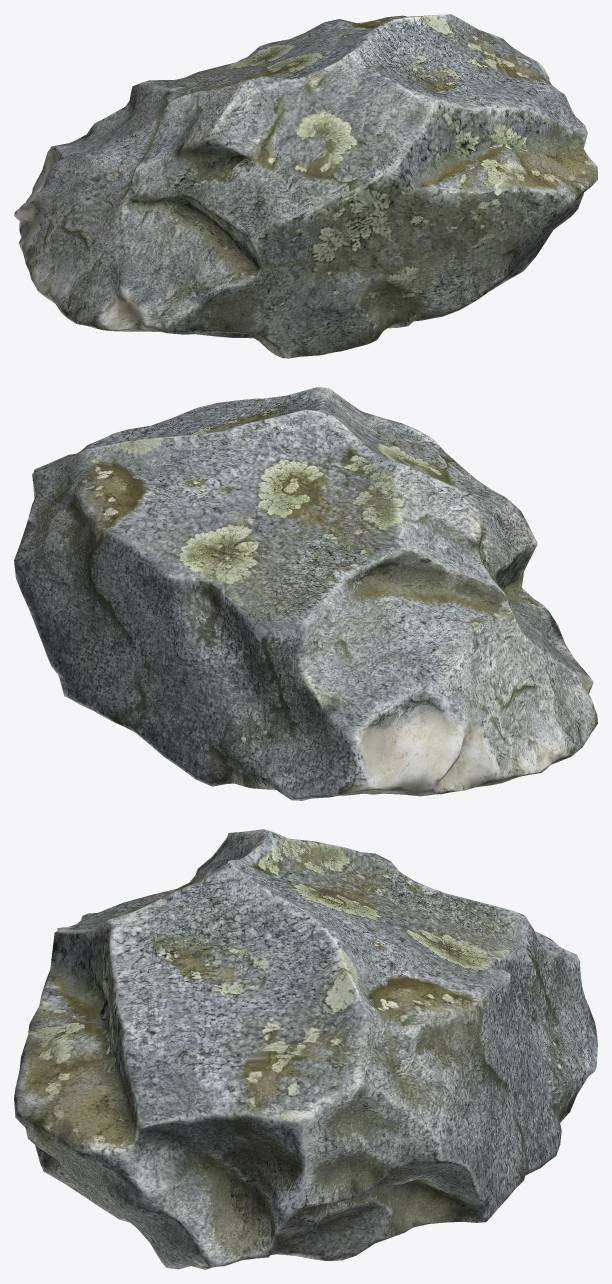
The model's file is rock.glb.
3 views of the same model, one above another, from view 1: azimuth 30°, elevation 25°; view 2: azimuth 150°, elevation 25°; view 3: azimuth 270°, elevation 25° (orthographic). The views are drawn at different scales.
Parts seen in each view (by area): view 1: Mesh_0.001; view 2: Mesh_0.001; view 3: Mesh_0.001.
Boxes of the visible parts, bbox=[...] form: Mesh_0.001: bbox=[14, 14, 597, 358]; Mesh_0.001: bbox=[14, 387, 597, 800]; Mesh_0.001: bbox=[14, 829, 597, 1269].
Size of the model in its own units: 0.2 by 0.1031 by 0.1633.
1 material, 1 textured.
